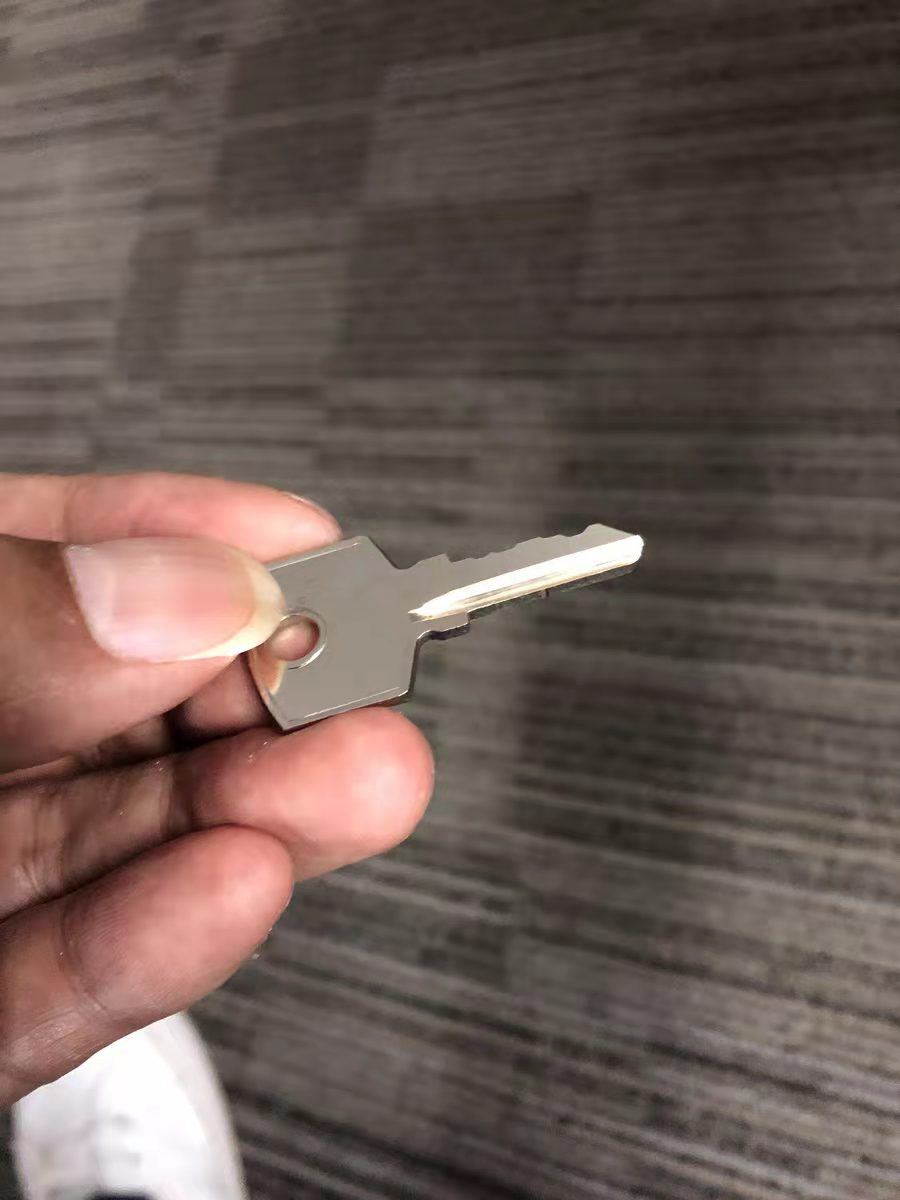key: (239, 508, 652, 737)
